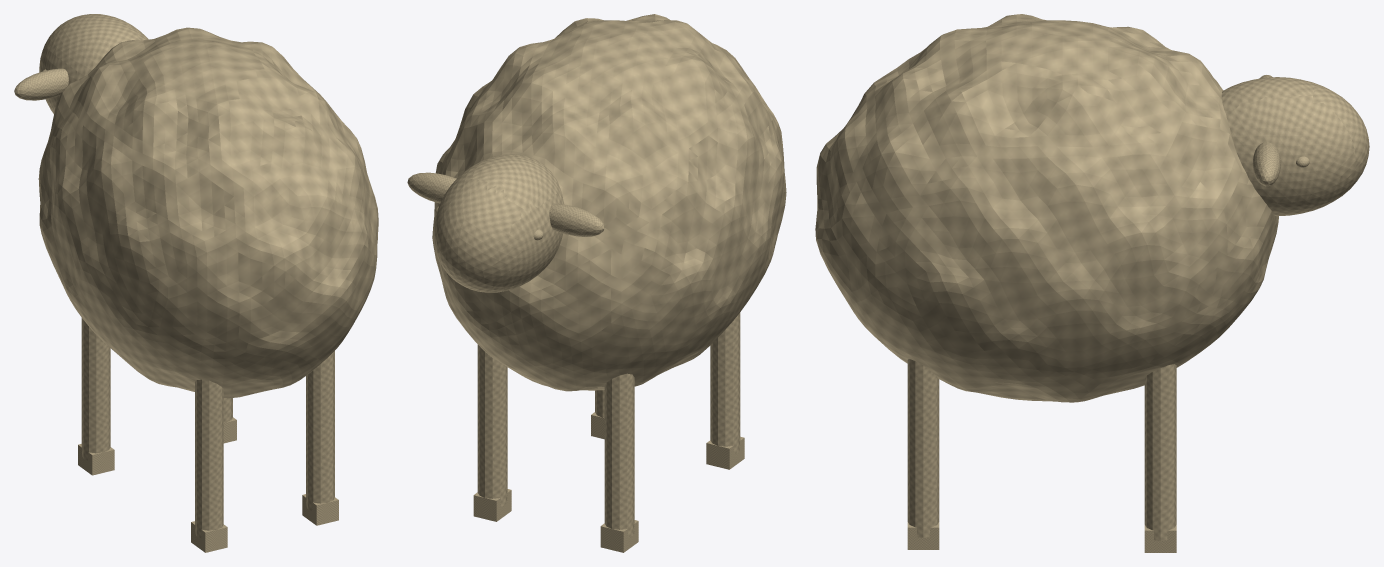
File: sheep_pbr_repair.glb
3 views of the same model, side by side, from view 1: azimuth 30°, elevation 25°; view 2: azimuth 150°, elevation 25°; view 3: azimuth 270°, elevation 25° (orthographic). The views are drawn at different scales.
Visible parts, largest first — view 1: world, leg_HL, head_snout, leg_HR, leg_FL, ear_-1, leg_HL_hoof, leg_HR_hoof, leg_FL_hoof; view 2: world, head_snout, leg_FL, leg_FR, leg_HL, ear_-1, ear_1, leg_FL_hoof, leg_FR_hoof, leg_HL_hoof; view 3: world, head_snout, leg_FR, leg_HR, ear_1, leg_FR_hoof, leg_HR_hoof.
Boxes of the visible parts, box(x1,y1,x2,y2) form: world: box(38, 27, 378, 398); leg_HL: box(195, 379, 223, 537); head_snout: box(39, 14, 148, 113); leg_HR: box(306, 351, 334, 510); leg_FL: box(81, 318, 110, 460); ear_-1: box(14, 68, 68, 100); leg_HL_hoof: box(191, 521, 227, 552); leg_HR_hoof: box(302, 494, 338, 525); leg_FL_hoof: box(78, 444, 114, 475); world: box(432, 14, 786, 391); head_snout: box(433, 154, 564, 292); leg_FL: box(604, 373, 634, 537); leg_FR: box(477, 344, 507, 506); leg_HL: box(710, 312, 740, 454); ear_-1: box(549, 203, 604, 236); ear_1: box(407, 172, 456, 203); leg_FL_hoof: box(600, 520, 638, 552); leg_FR_hoof: box(473, 489, 511, 521); leg_HL_hoof: box(706, 436, 744, 469); world: box(815, 14, 1278, 402); head_snout: box(1221, 77, 1369, 216); leg_FR: box(1144, 364, 1176, 540); leg_HR: box(907, 359, 939, 537); ear_1: box(1252, 142, 1280, 186); leg_FR_hoof: box(1144, 525, 1176, 552); leg_HR_hoof: box(907, 522, 939, 549).
Size of the model in its own units: 0.9694 by 1.5 by 1.57.
Materials: 1 (1 with a texture image).
